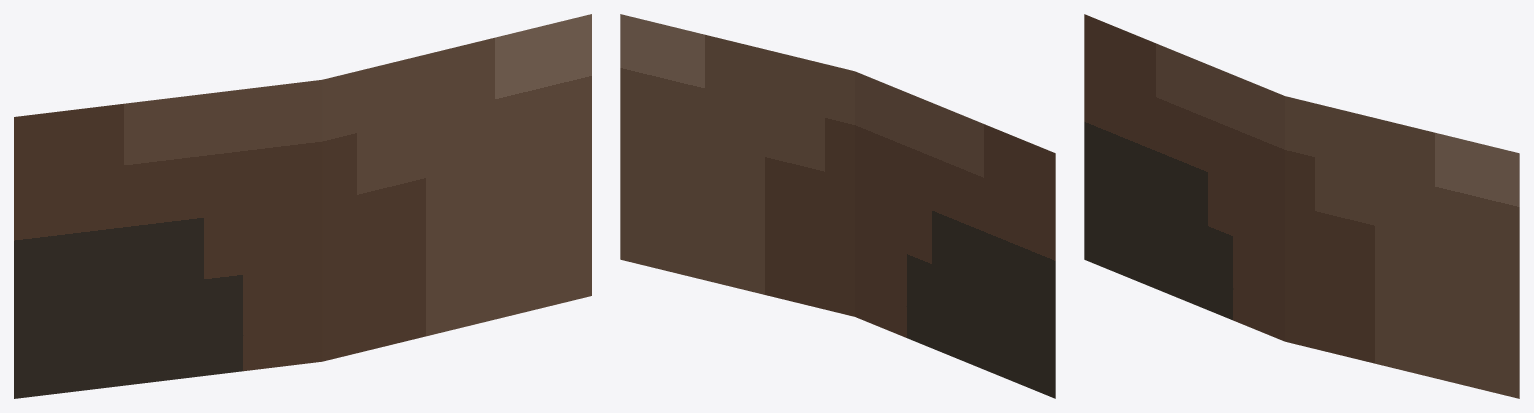
3 renders of one model, left to right at view 1: azimuth 30°, elevation 25°; view 2: azimuth 150°, elevation 25°; view 3: azimuth 330°, elevation 25°, orthographic. The views are drawn at different scales.
Size of the model in its own units: 1 by 0.5 by 0.125.
1 material, 1 textured.
